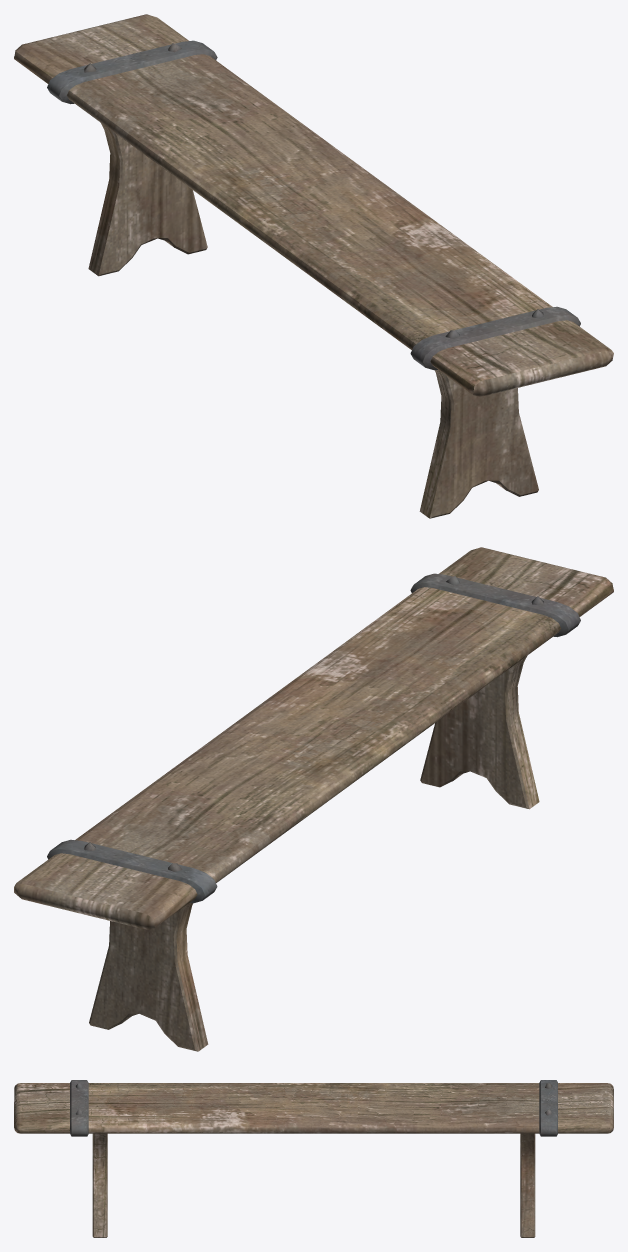
Rendered from SM_Bench.fbx.
3 renders of one model, top to bottom at view 1: azimuth 30°, elevation 25°; view 2: azimuth 150°, elevation 25°; view 3: azimuth 270°, elevation 25°, orthographic. The views are drawn at different scales.
Visible parts, largest first — view 1: SM_Bench_LOD0; view 2: SM_Bench_LOD0; view 3: SM_Bench_LOD0.
Boxes of the visible parts, bbox=[...] form: SM_Bench_LOD0: bbox=[14, 14, 613, 518]; SM_Bench_LOD0: bbox=[14, 547, 613, 1051]; SM_Bench_LOD0: bbox=[14, 1080, 613, 1237].
Size of the model in its own units: 43.03 by 218 by 50.14.
Materials: 2 (2 with a texture image).
